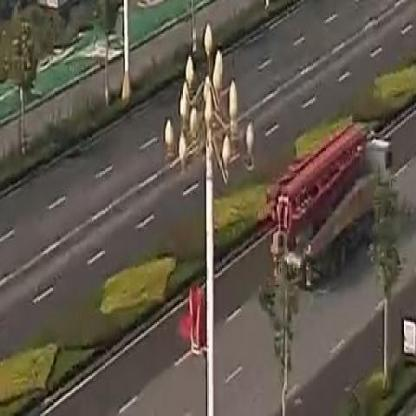other: (267, 151, 364, 220), (177, 283, 208, 348)
